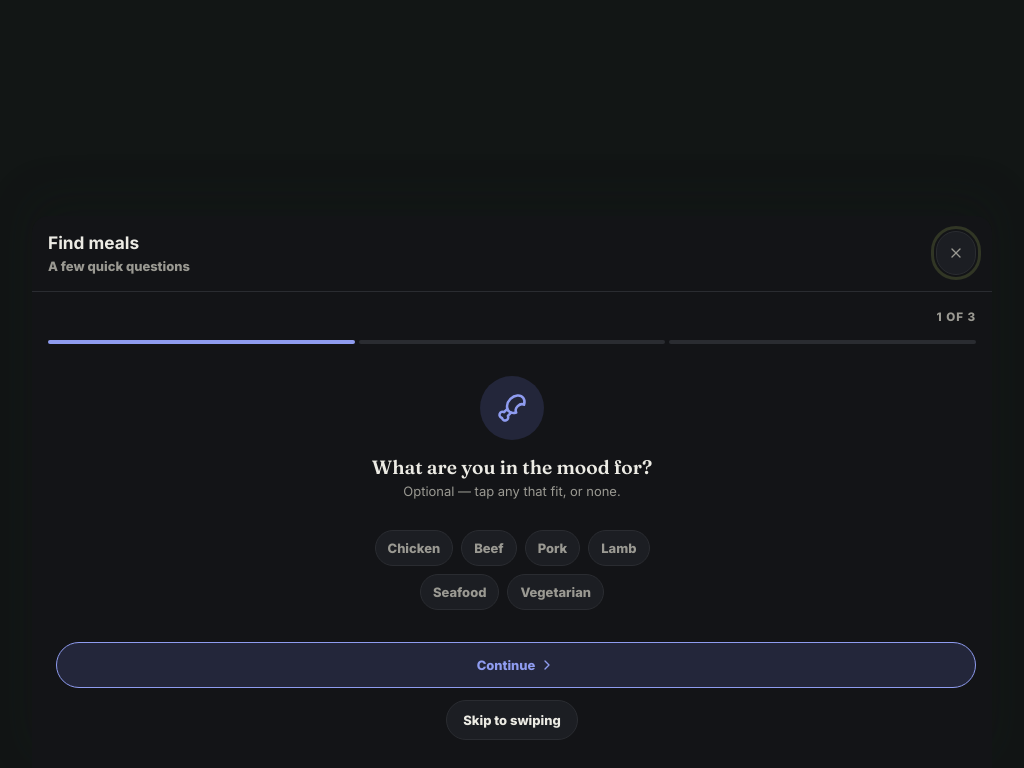
Scenario: RecipeDiscoverySheet › assigns the top recipe after the mandatory nights pick
This screenshot has width=1024, height=768.
Click the button "Skip to swiping": [512, 720] box [446, 700, 578, 740]
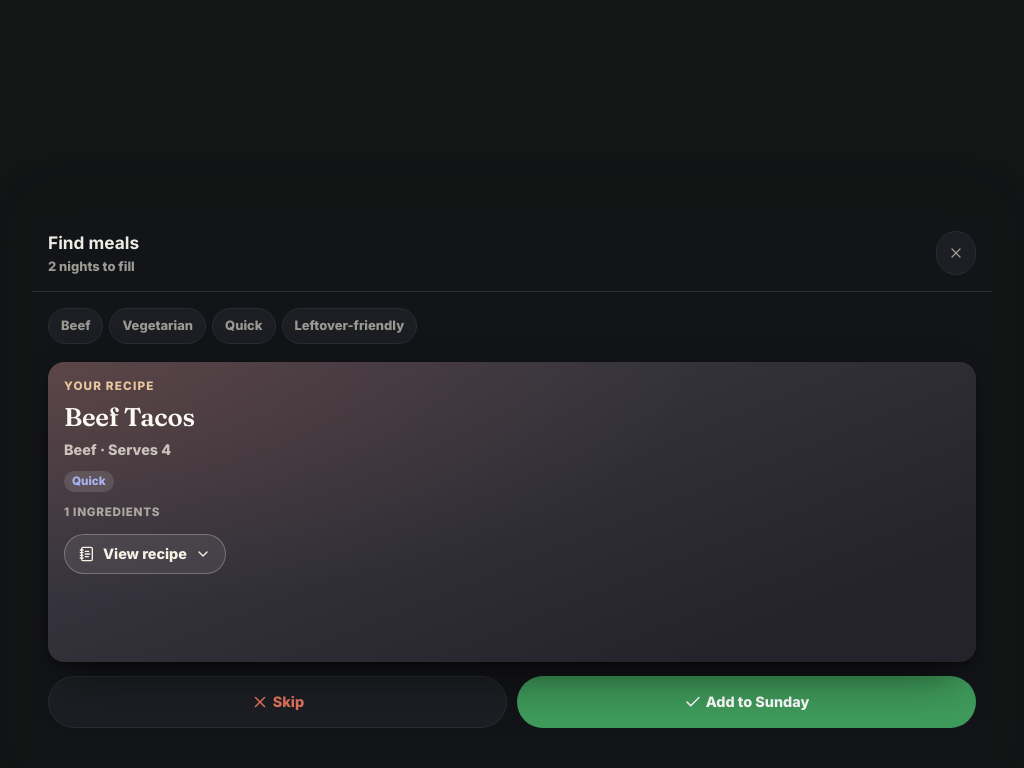
Check: the text "Beef Tacos" is shown, box [64, 400, 195, 432]
Click the button "Add to Sunday": [746, 702] box [517, 676, 976, 728]
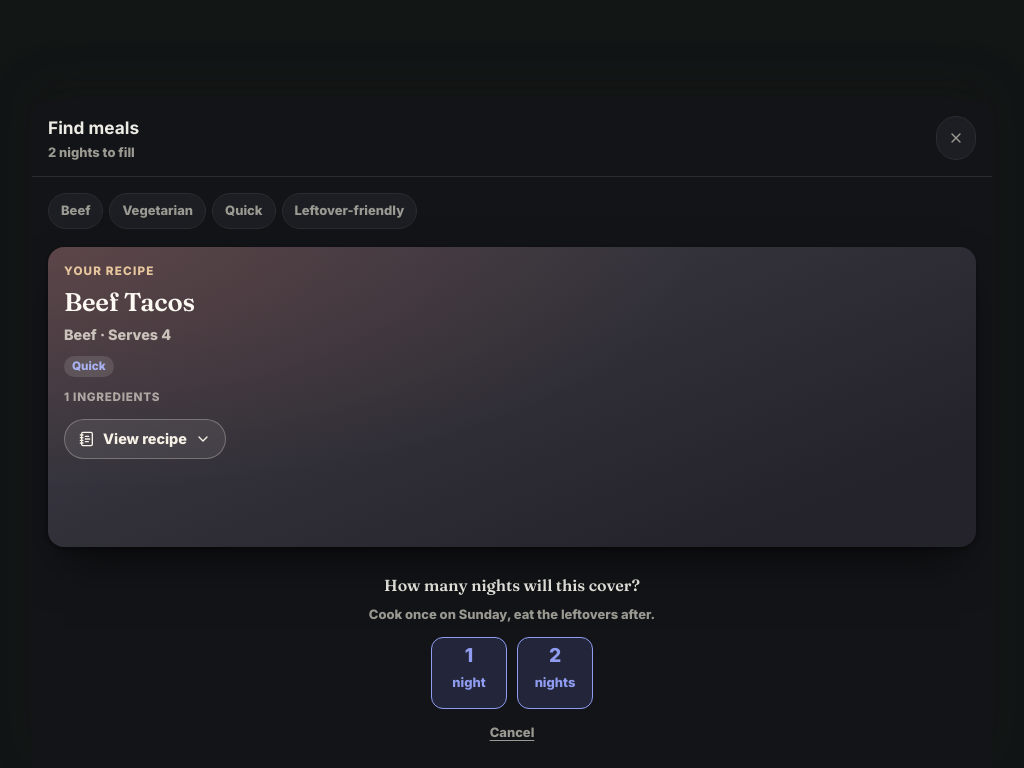
Click the button "1 night": [469, 673] box [431, 637, 507, 709]
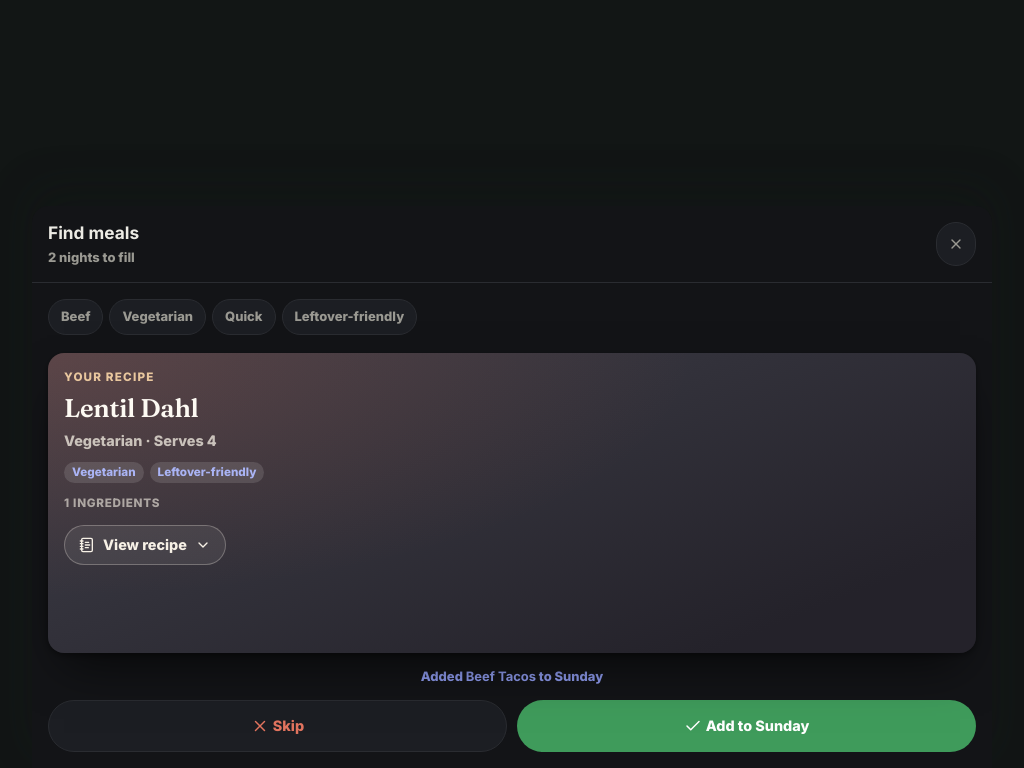
Check: the text "Added Beef Tacos to Sunday" is shown, box [421, 668, 603, 684]
